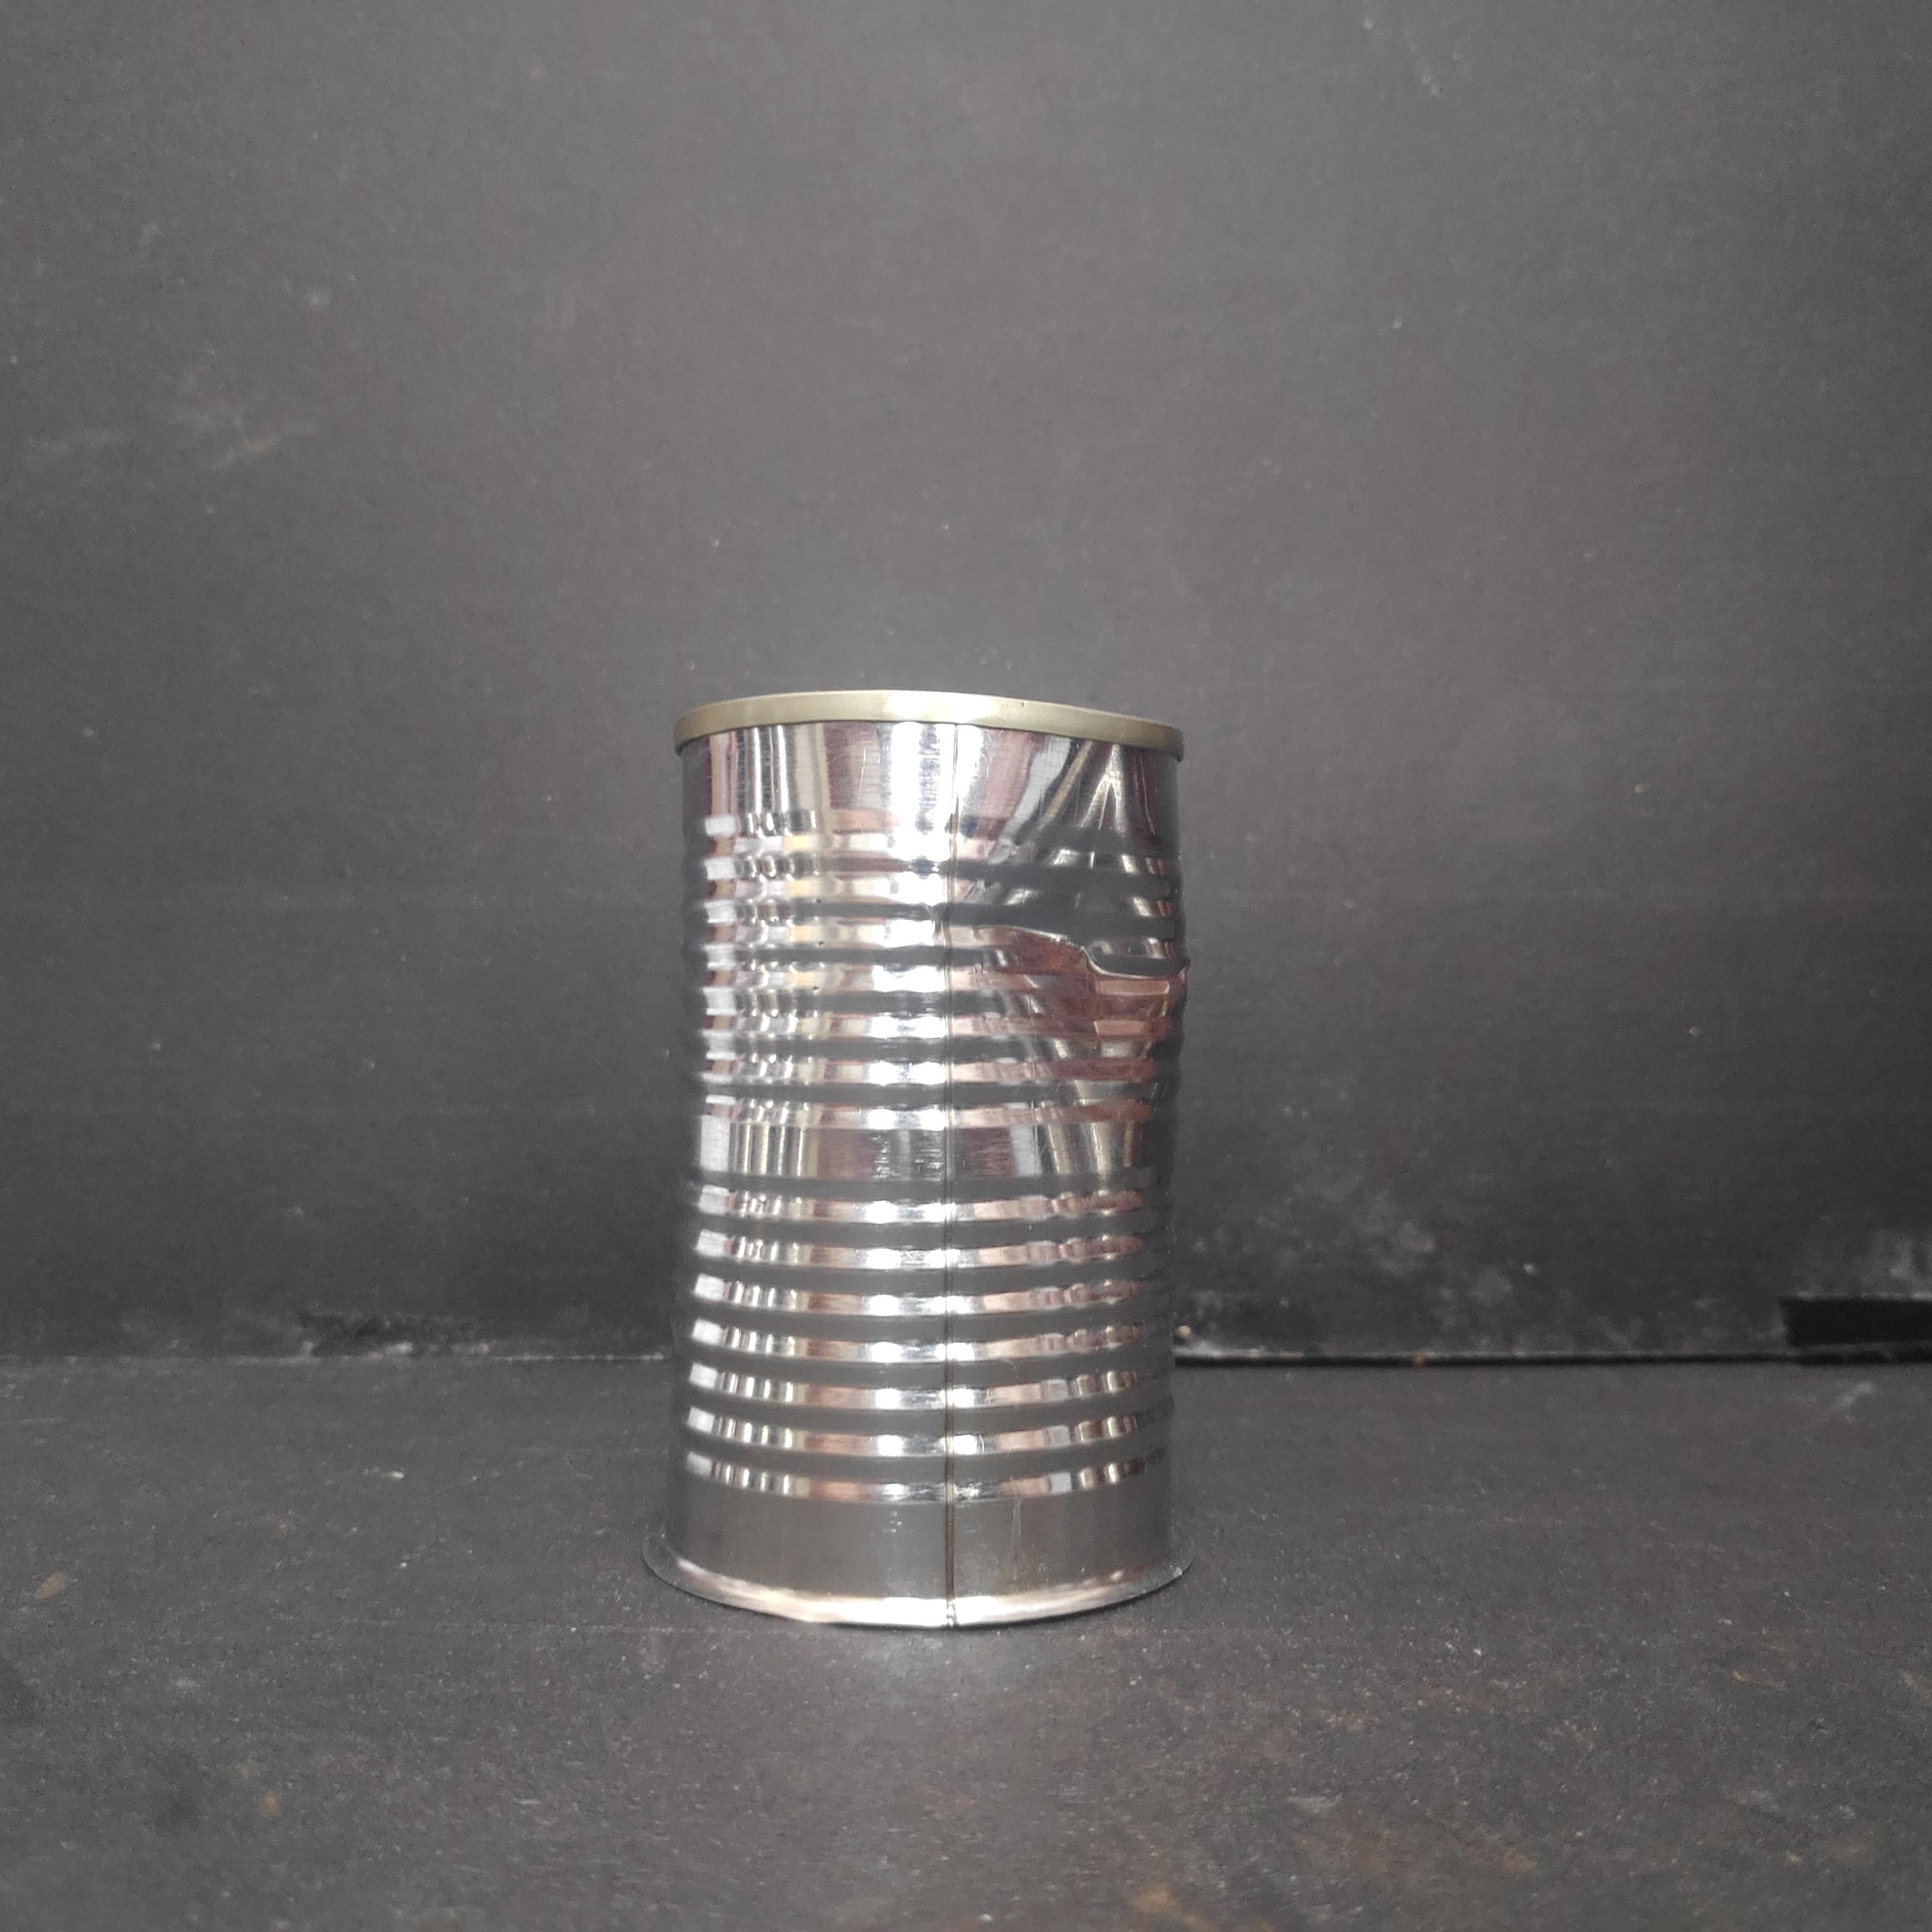Minor Defect: (649, 681, 1205, 1640)
